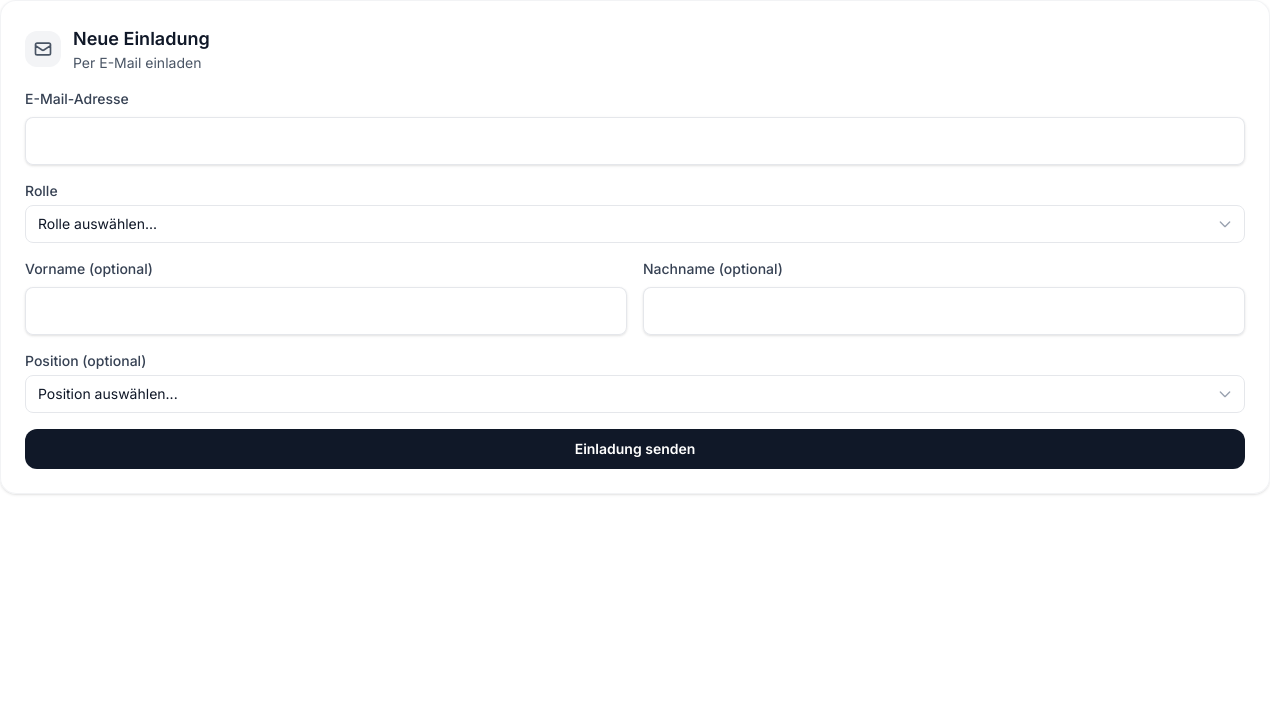
Test: InvitationForm › validates email field
Click the button "Einladung senden" at [635, 449], box x1=25 y1=429 x2=1245 y2=469
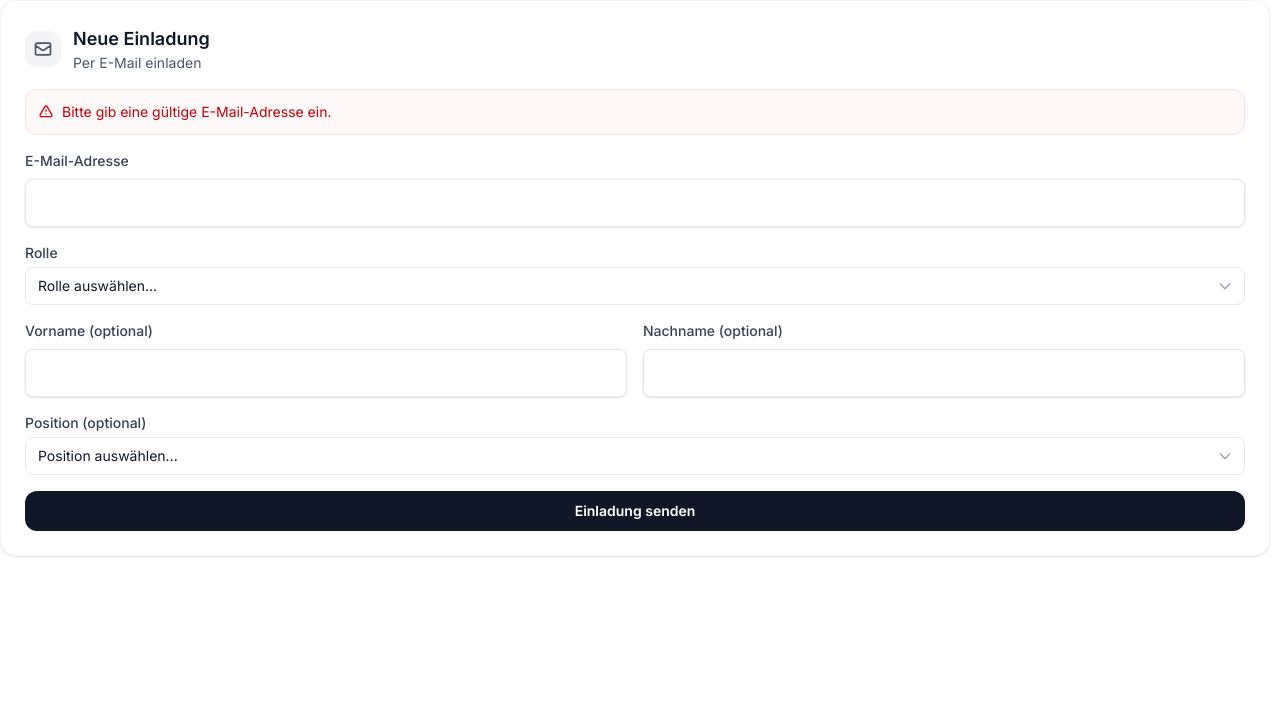
Now the text "Bitte gib eine gültige E-Mail-Adresse ein." is shown, box x1=62 y1=102 x2=332 y2=122
